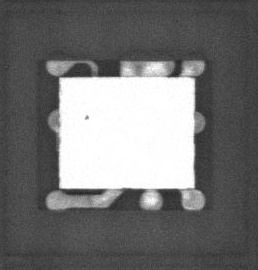DIE_INK: (78, 118, 86, 127)
